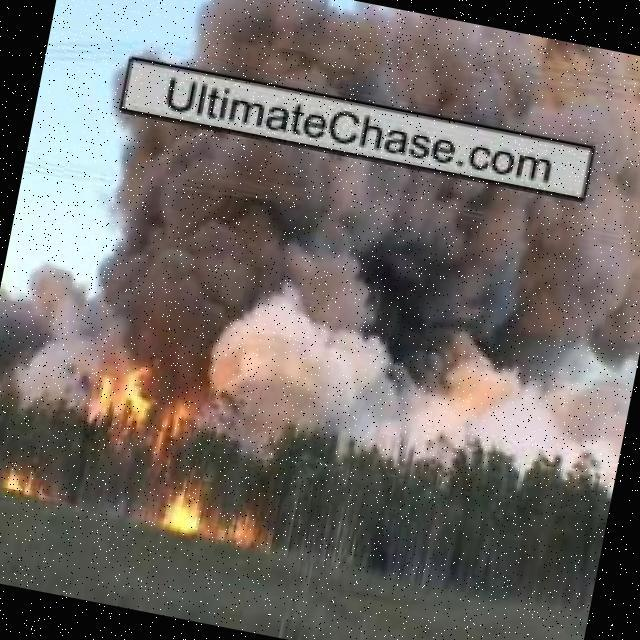Fire: (82, 347, 190, 439), (0, 456, 54, 501), (163, 483, 208, 537), (225, 512, 259, 551)
